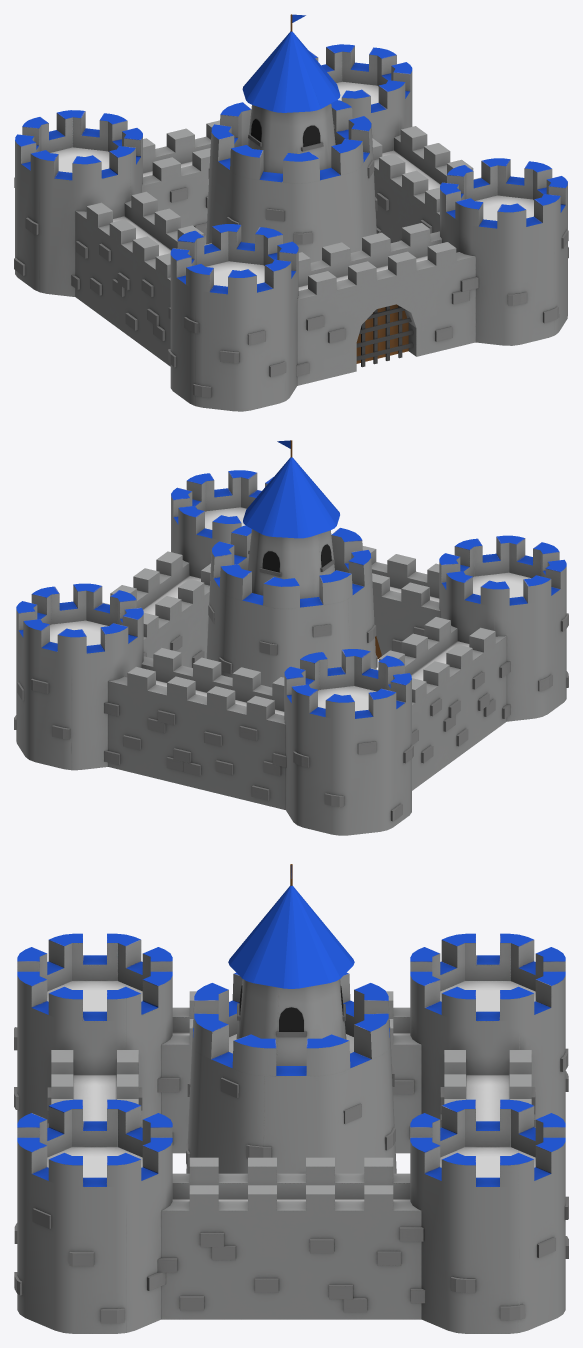
The model's file is HumankindKingdom.fbx.
3 views of the same model, one above another, from view 1: azimuth 30°, elevation 25°; view 2: azimuth 150°, elevation 25°; view 3: azimuth 270°, elevation 25° (orthographic). The views are drawn at different scales.
Parts seen in each view (by area): view 1: Corner, Wall, Middle, Stone, Middle_roof, Fence, Door, Window; view 2: Corner, Wall, Middle, Stone, Middle_roof, Window; view 3: Corner, Wall, Middle, Stone, Middle_roof, Window.
Boxes of the visible parts, box(x1,y1,x2,y2) form: Corner: box(15, 44, 567, 411); Wall: box(75, 120, 481, 385); Middle: box(206, 100, 376, 262); Stone: box(14, 160, 568, 397); Middle_roof: box(242, 31, 340, 112); Fence: box(356, 305, 412, 367); Door: box(356, 304, 408, 363); Window: box(248, 119, 334, 151); Corner: box(16, 470, 566, 835); Wall: box(102, 546, 506, 809); Middle: box(206, 525, 376, 687); Stone: box(14, 605, 568, 821); Middle_roof: box(243, 457, 339, 538); Window: box(248, 544, 334, 576); Corner: box(17, 933, 565, 1333); Wall: box(51, 991, 531, 1319); Middle: box(186, 972, 396, 1173); Stone: box(14, 1027, 568, 1323); Middle_roof: box(228, 885, 354, 988); Window: box(237, 985, 345, 1037).
Size of the model in its own units: 2312 by 1632 by 2312.
